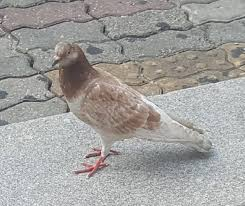pigeon: (50, 39, 218, 179)
